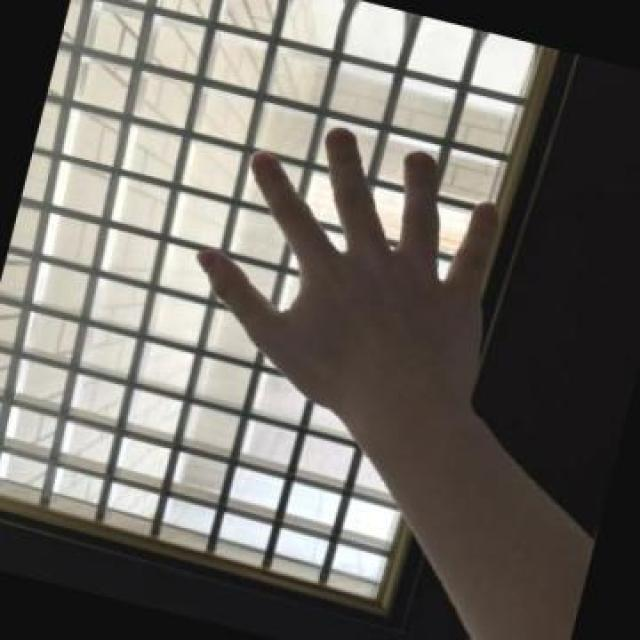hand: (195, 128, 504, 418)
